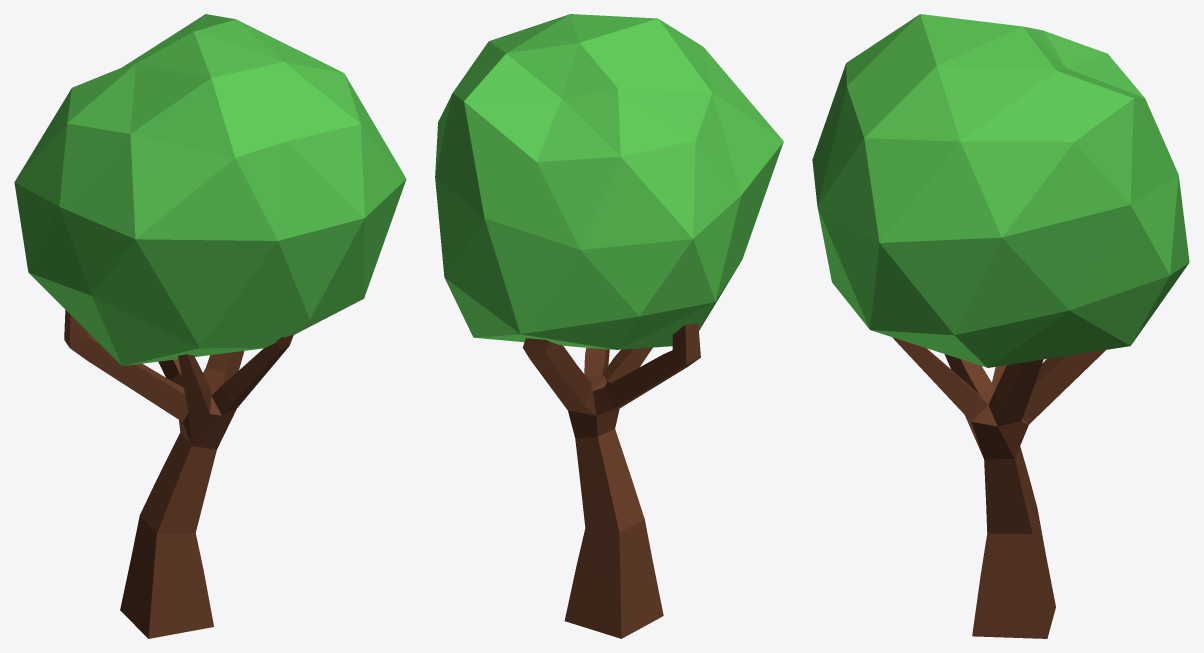
The model's file is GreenTree1.fbx.
3 views of the same model, side by side, from view 1: azimuth 30°, elevation 25°; view 2: azimuth 150°, elevation 25°; view 3: azimuth 270°, elevation 25° (orthographic). The views are drawn at different scales.
Visible parts, largest first — view 1: LemonTree5.002; view 2: LemonTree5.002; view 3: LemonTree5.002.
Boxes of the visible parts, <box> form: LemonTree5.002: <box>14,14,406,638</box>; LemonTree5.002: <box>435,14,783,638</box>; LemonTree5.002: <box>812,14,1189,638</box>.
Bounding box in the file's own units: 251 × 455 × 254.
